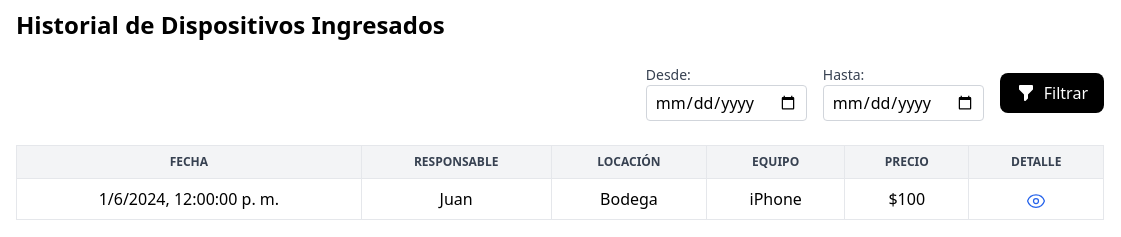
Scenario: HistorialIngresosDispositivos › filtra por fecha correctamente
This screenshot has width=1121, height=237.
In the date field labelled "Desde:": (726, 103) [646,85,807,121], type "2024-06-10"
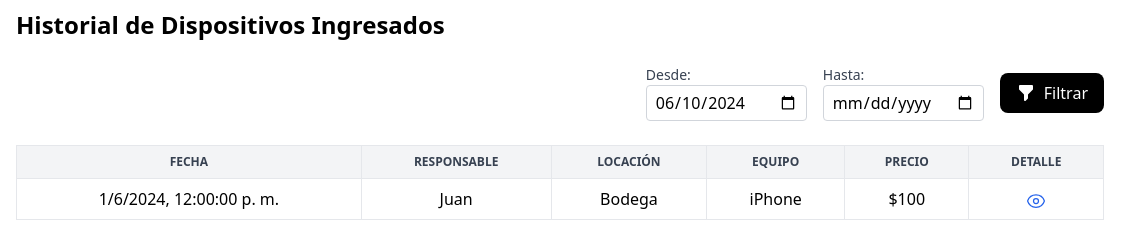
In the date field labelled "Hasta:": (903, 103) [823,85,984,121], type "2024-06-11"
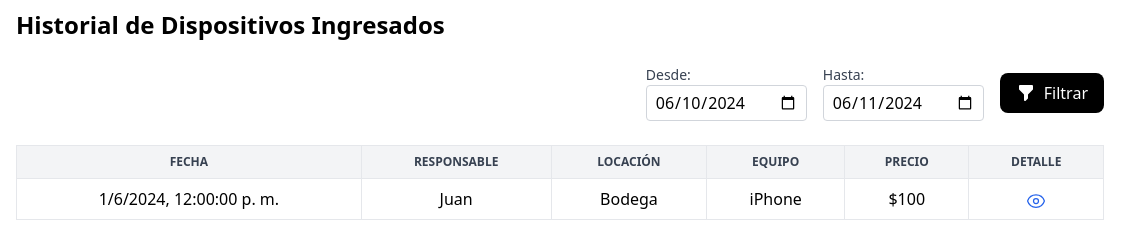
Click the button "Filtrar": (1052, 93) [1000,73,1104,113]
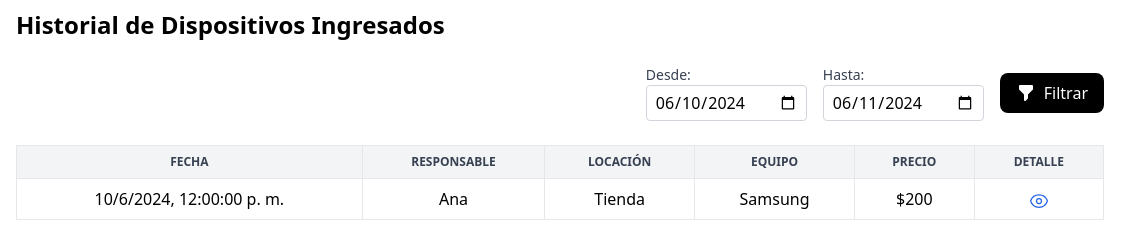
Result: the text "Ana" is shown at [362,178,545,220]
